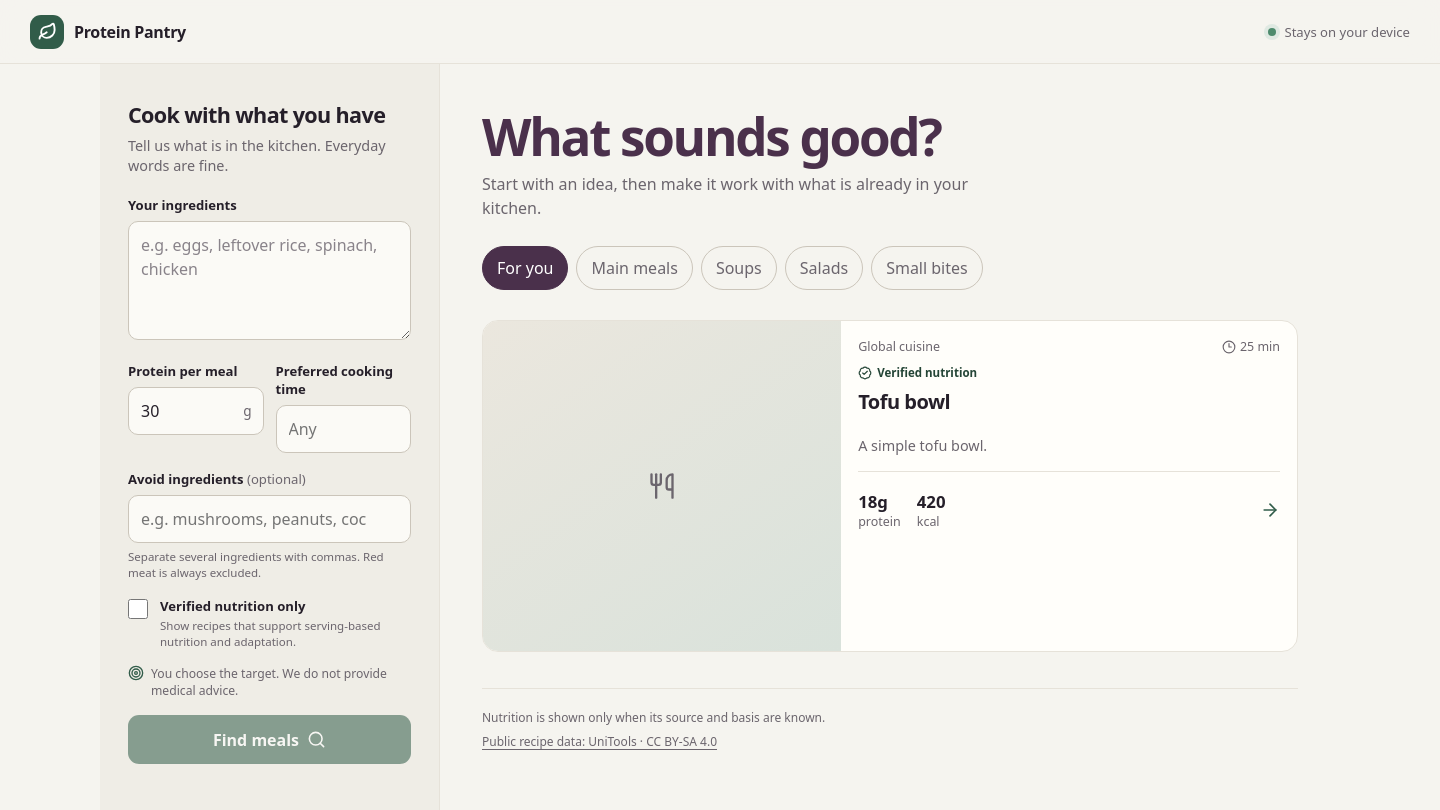
Test: closes the recipe dialog with Escape and restores focus
Click the button with aria-label "View Tofu bowl".
click(890, 486)  # box [483,321,1297,651]
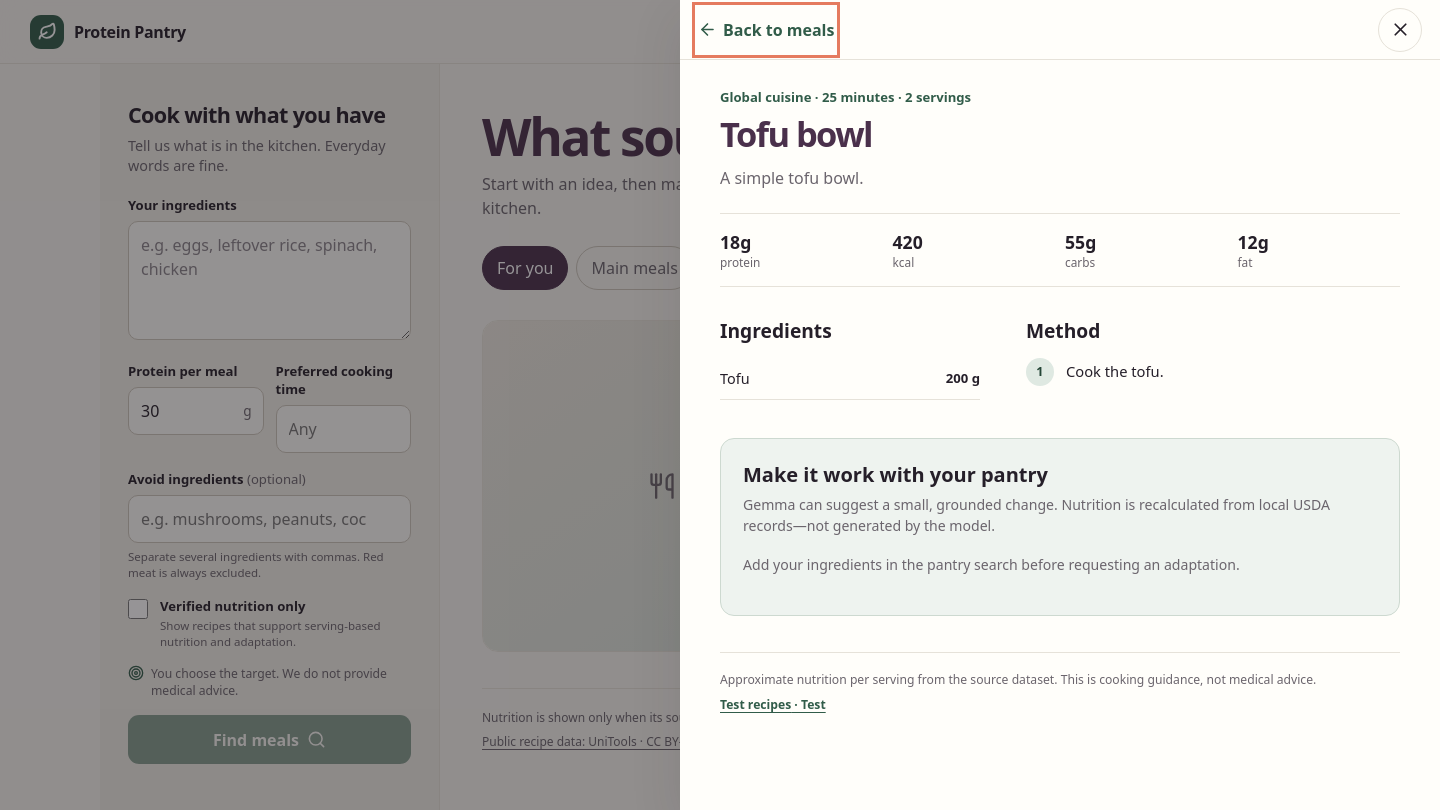
Press Escape in the dialog, box [680,0,1439,809]
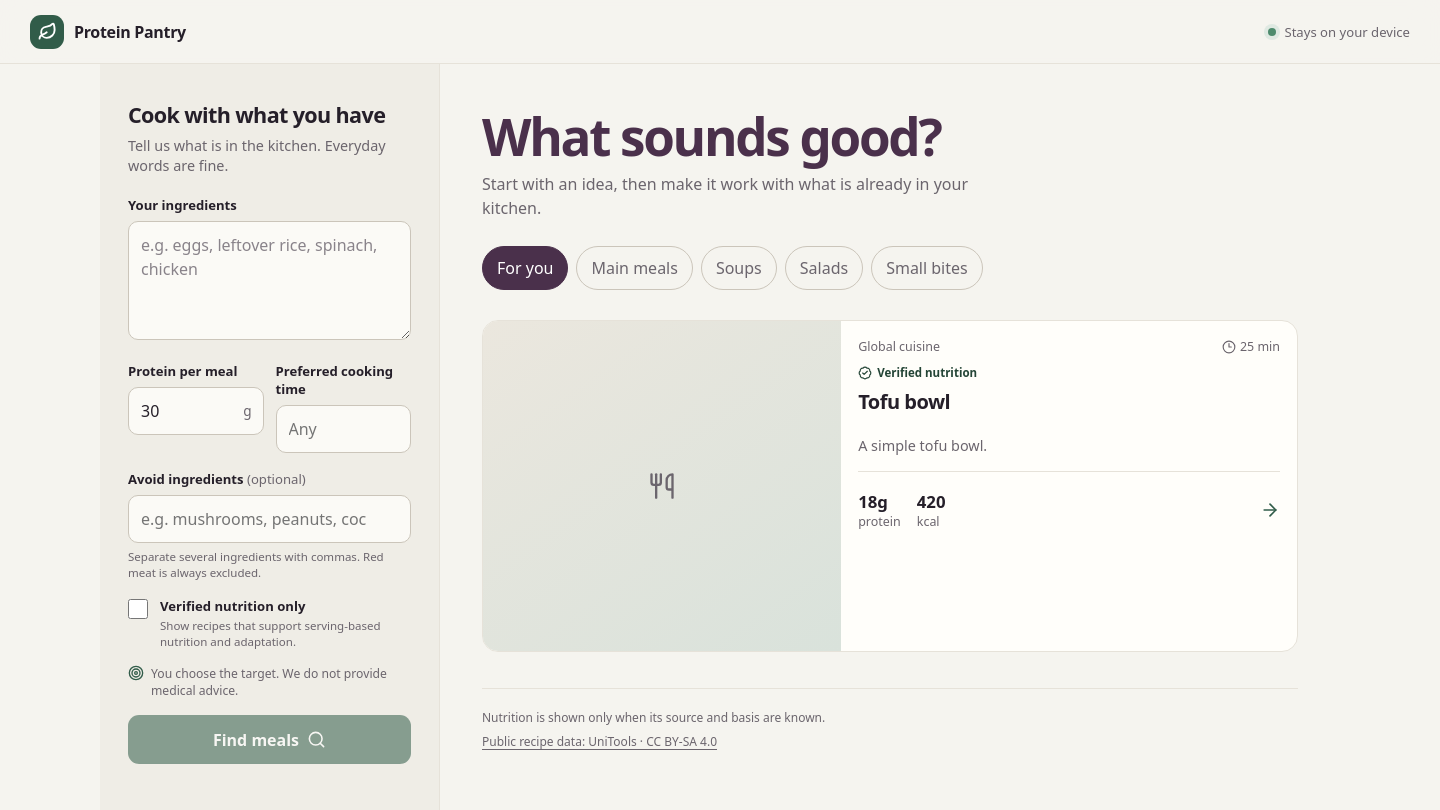
Expected: the dialog is gone
